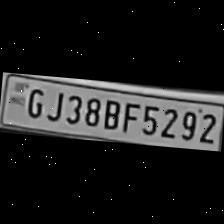2: (196, 109, 218, 144), (156, 104, 178, 138)
3: (62, 90, 84, 124)
5: (138, 100, 160, 136)
8: (80, 93, 102, 127)
9: (176, 106, 198, 142)
B: (99, 96, 121, 130)
F: (119, 99, 138, 134)
G: (24, 84, 46, 118)
J: (44, 88, 65, 122)
